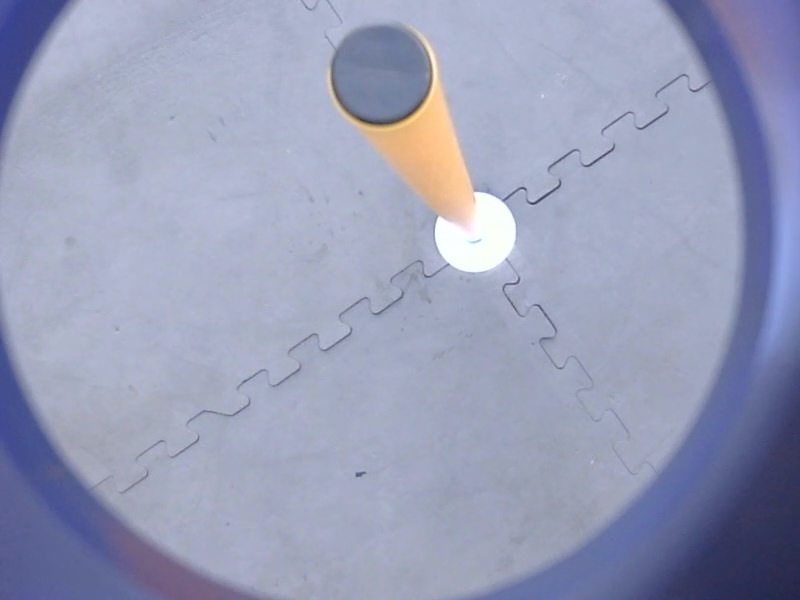tip: (320, 16, 445, 137)
